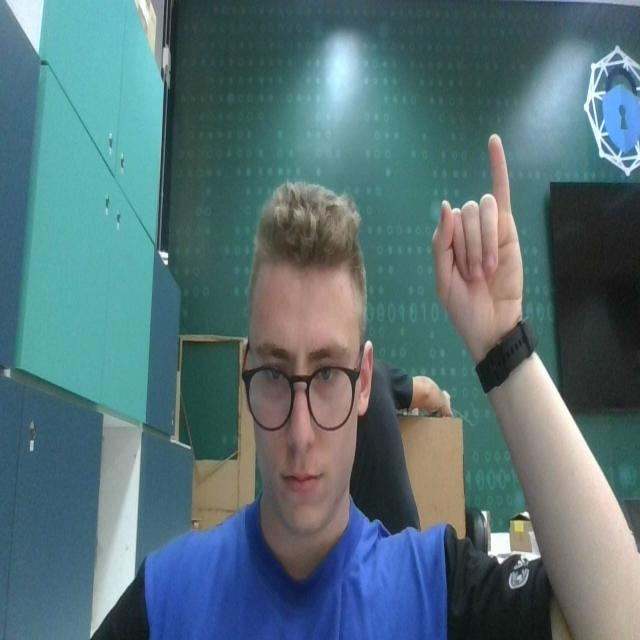I: (432, 130, 527, 340)
